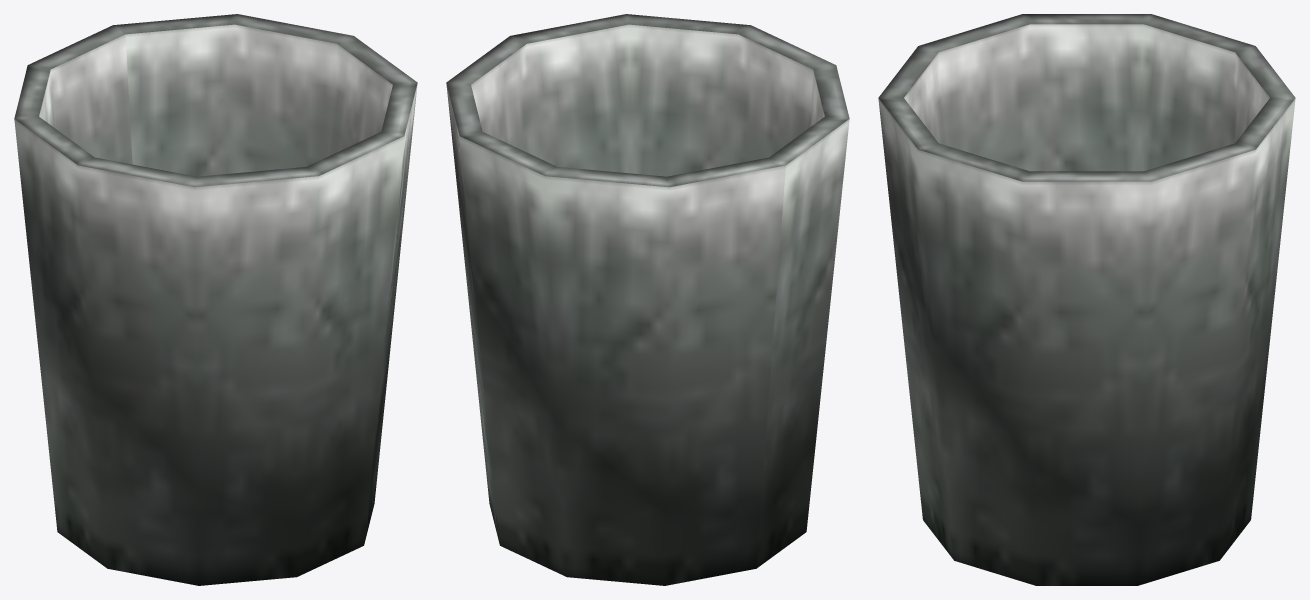
Rendered from ITMI_EVENT_CURSEDGOLDCUPAFTER.glb.
3 views of the same model, side by side, from view 1: azimuth 30°, elevation 25°; view 2: azimuth 150°, elevation 25°; view 3: azimuth 270°, elevation 25° (orthographic).
Parts seen in each view (by area): view 1: Mesh; view 2: Mesh; view 3: Mesh.
Part boxes in pixels (x1,y1,x2,y2): Mesh: [14, 14, 417, 585]; Mesh: [446, 14, 849, 585]; Mesh: [878, 14, 1295, 585].
Size of the model in its own units: 0.0847 by 0.0994 by 0.0891.
Materials: 1 (1 with a texture image).
